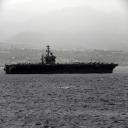Portanaves: (3, 44, 121, 76)
